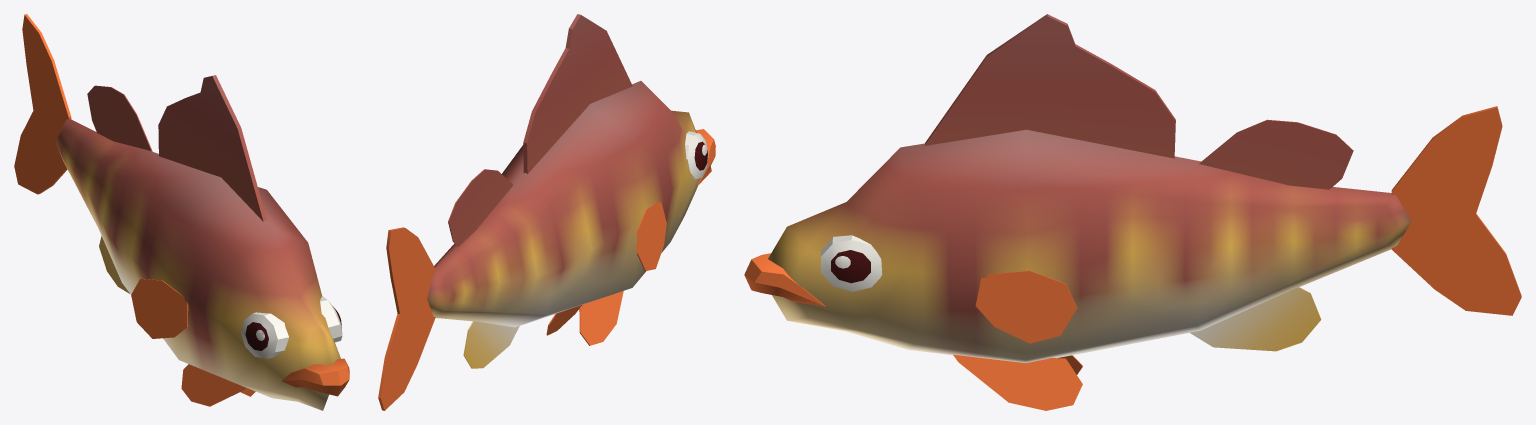
The picture shows the model from 3 angles, left to right: view 1: azimuth 30°, elevation 25°; view 2: azimuth 150°, elevation 25°; view 3: azimuth 270°, elevation 25°; orthographic projection. The views are drawn at different scales.
Visible parts, largest first — view 1: Fish_YellowPerch; view 2: Fish_YellowPerch; view 3: Fish_YellowPerch.
Part boxes in pixels (x1=…): Fish_YellowPerch: x1=14, y1=14, x2=349, y2=410; Fish_YellowPerch: x1=378, y1=14, x2=715, y2=410; Fish_YellowPerch: x1=744, y1=14, x2=1521, y2=410.
Bounding box in the file's own units: 9.29 × 19.82 × 36.49.
